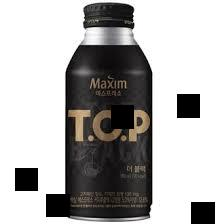TOP_black: (64, 1, 155, 221)
